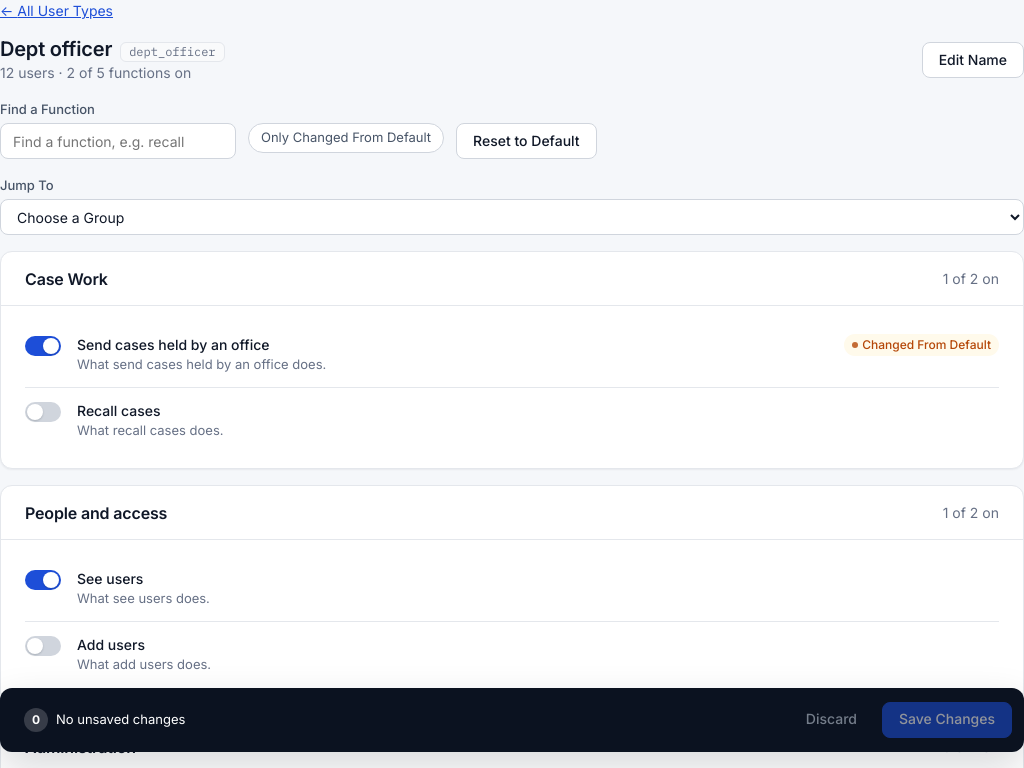
Test case: the user-type page (decisions 25-27) › Save sends one PUT with only the changed entries, then says it is in the audit log
Check: the switch named "See users" is shown, box [25,570,61,590]
Click the switch named "Add users" at (43, 646), box [25,636,61,656]
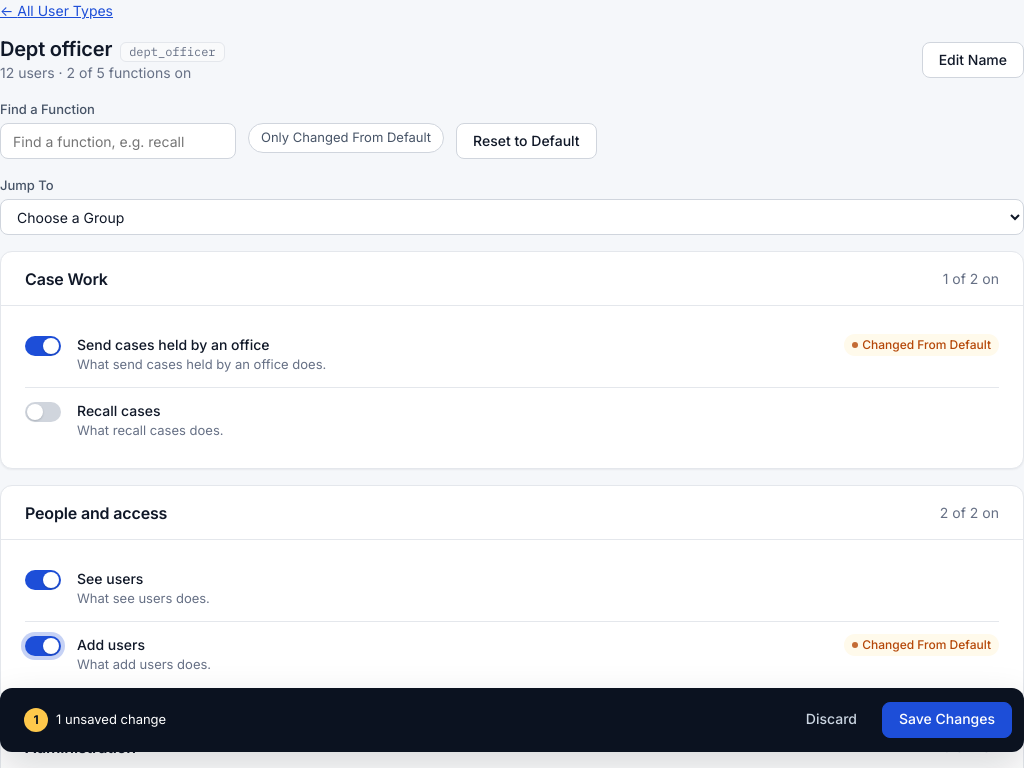
Click the switch named "Recall cases" at (43, 412), box [25,402,61,422]
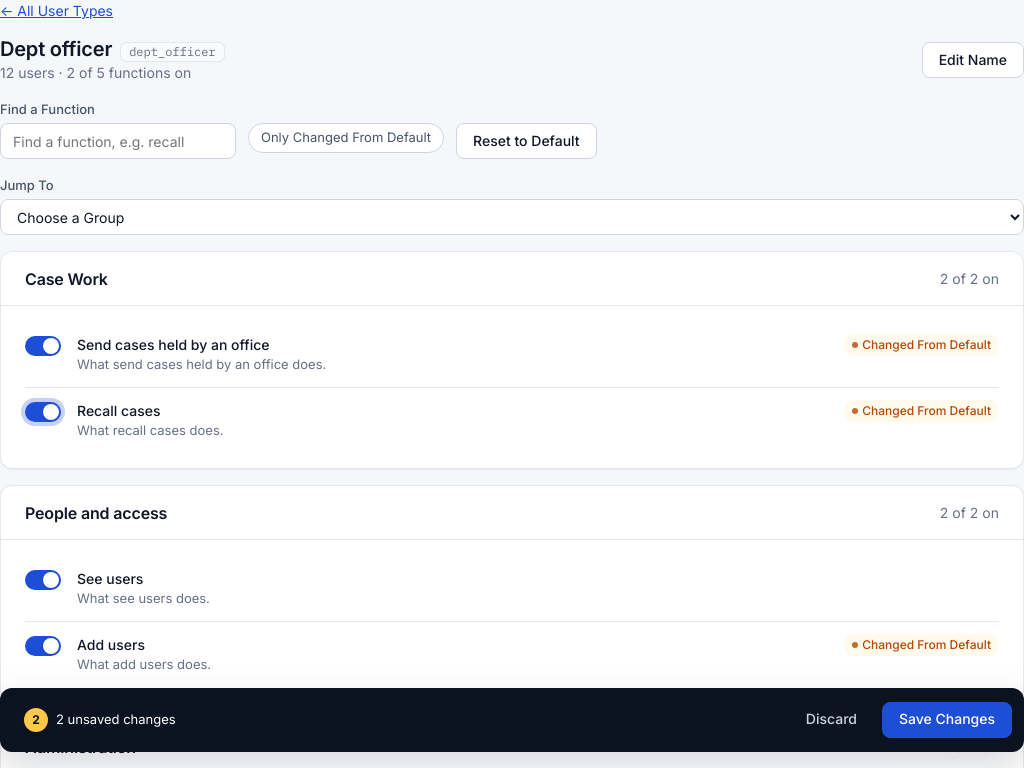
Click the button "Save Changes" at (947, 720), box [882,702,1012,738]
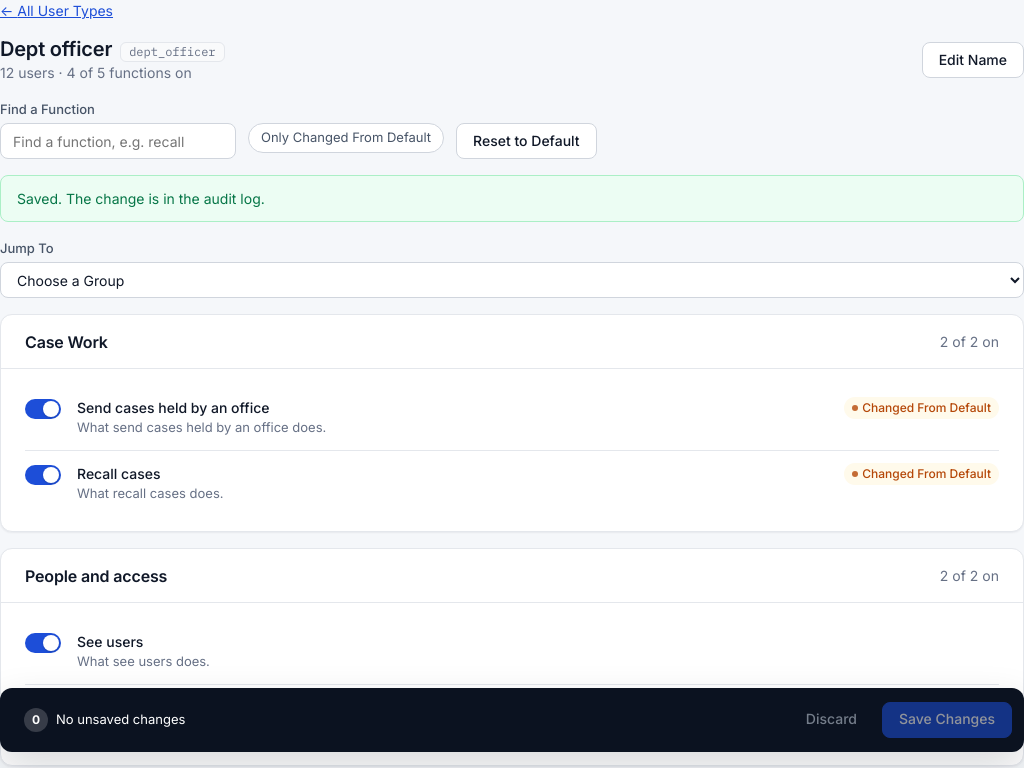
Check: the text "Saved. The change is in the audit log." is shown, box [0,175,1023,222]
Check: the text "No unsaved changes" is shown, box [56,710,185,730]
